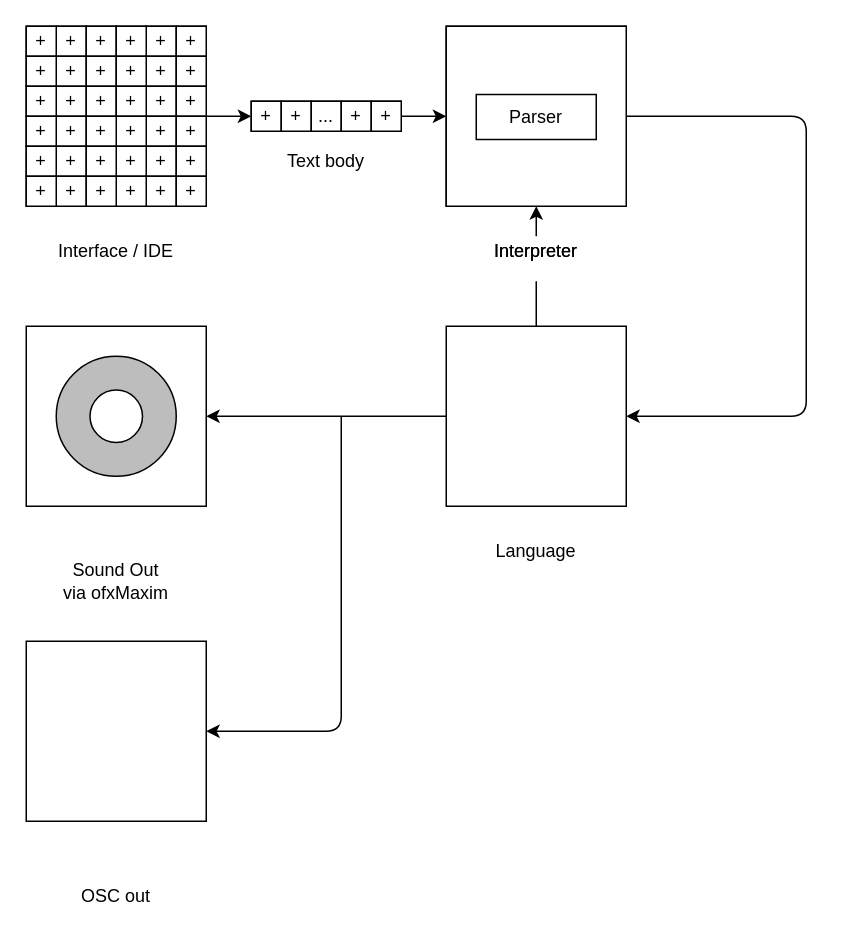
This 845x938 diagram has some shape labels left out. Each missing label, with the centre of its shape:
/message-0: (x=115, y=730)
{i5893&bc}: (x=535, y=415)
